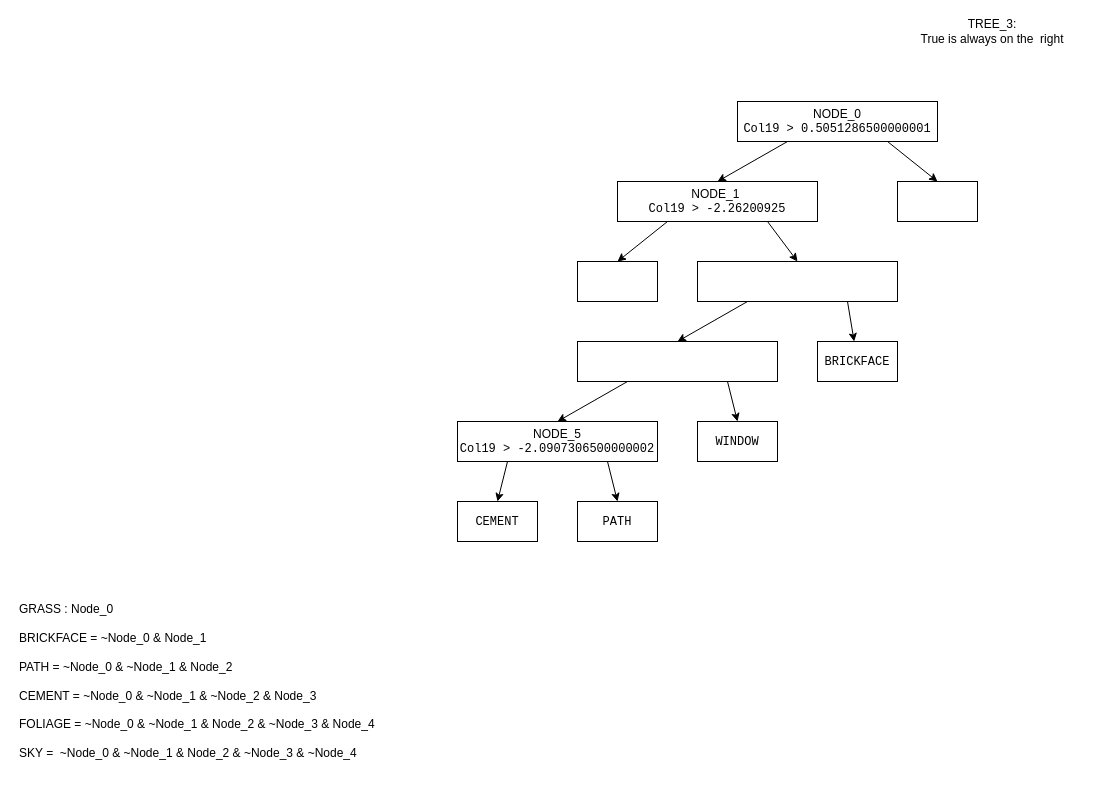
This 1114x799 diagram has some shape labels left out. Each missing label, with the centre of its shape:
"GRASS" belongs at pixel 937 201.
"NODE_3 Col19 > -1.7660529500000002" belongs at pixel 797 281.
"NODE_4 HUE_MEAN > 0.35527910500000004" belongs at pixel 677 361.
"SKY" belongs at pixel 617 281.
